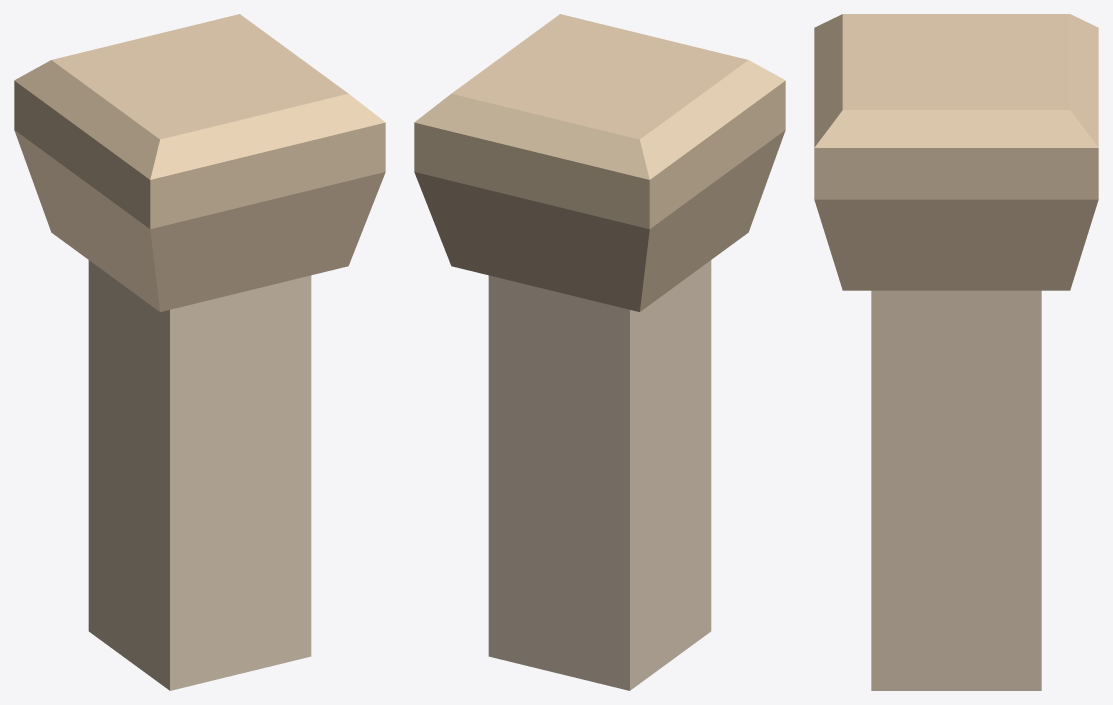
The model's file is Pillar_Wall_Top.glb.
The picture shows the model from 3 angles, left to right: view 1: azimuth 30°, elevation 25°; view 2: azimuth 150°, elevation 25°; view 3: azimuth 270°, elevation 25°; orthographic projection. The views are drawn at different scales.
Parts seen in each view (by area): view 1: Pillar_Wall_Top; view 2: Pillar_Wall_Top; view 3: Pillar_Wall_Top.
Part boxes in pixels (<box>): Pillar_Wall_Top: <box>14,14,385,690</box>; Pillar_Wall_Top: <box>414,14,785,690</box>; Pillar_Wall_Top: <box>814,14,1098,690</box>.
Size of the model in its own units: 0.5 by 1.15 by 0.5.
